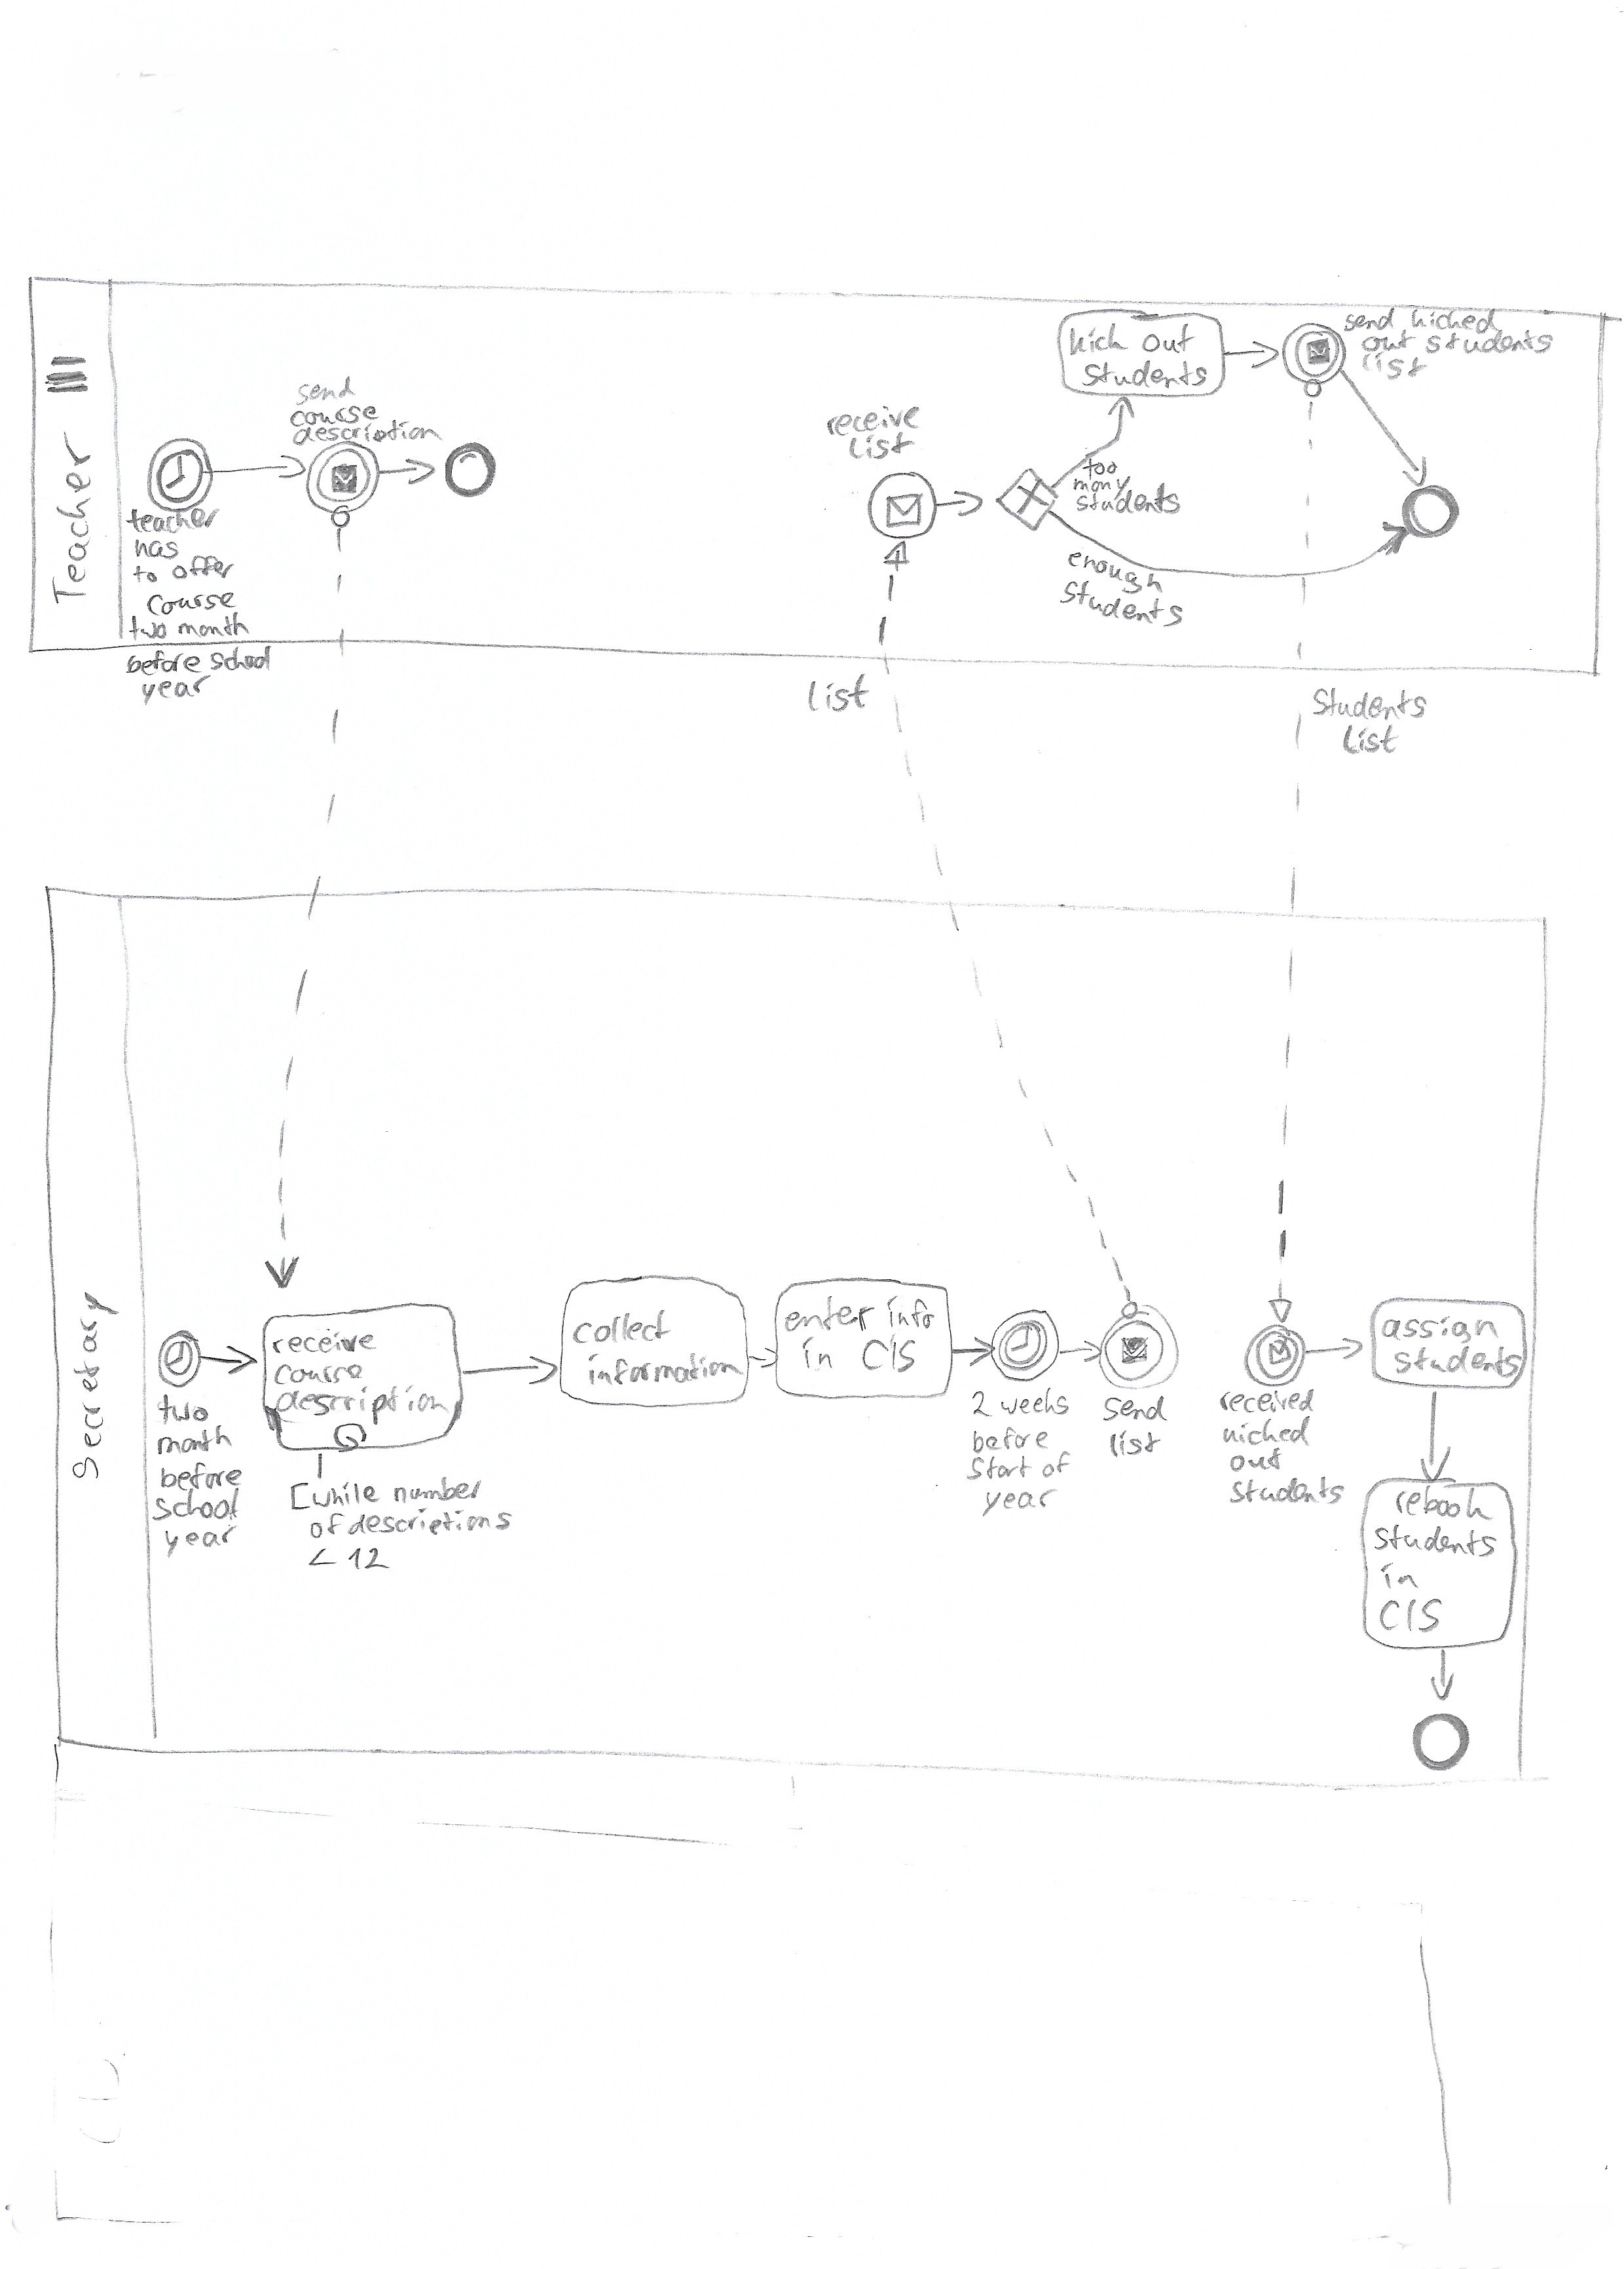12: (342, 1543, 392, 1573)
2: (967, 1385, 994, 1417)
<: (306, 1546, 336, 1571)
CIS: (1378, 1596, 1444, 1636), (860, 1334, 918, 1374)
Course: (143, 595, 236, 619)
Ill: (43, 352, 90, 396)
List: (1340, 722, 1401, 757)
Secretary: (71, 1291, 119, 1480)
Students: (1310, 685, 1430, 721), (1062, 577, 1193, 607), (1080, 360, 1208, 388)
Teacher: (49, 432, 94, 608)
[while: (285, 1479, 380, 1512)
assign: (1380, 1315, 1500, 1346)
before: (158, 1459, 244, 1492), (969, 1427, 1049, 1455), (125, 648, 204, 676)
collect: (570, 1315, 673, 1347)
course: (272, 1364, 365, 1387), (287, 413, 381, 432)
description: (271, 1383, 449, 1426), (291, 423, 442, 448)
descriptions: (350, 1508, 513, 1541)
enough: (1070, 547, 1175, 576)
enter: (783, 1295, 876, 1334)
has: (132, 537, 181, 560)
in: (1378, 1565, 1422, 1592), (801, 1337, 835, 1372)
info: (885, 1298, 935, 1330)
information: (585, 1353, 741, 1386)
kick: (1065, 325, 1127, 358)
kicked: (1410, 307, 1502, 330)
list: (806, 673, 872, 713), (845, 434, 915, 463), (1360, 350, 1431, 376), (1104, 1433, 1162, 1456)
many: (1071, 477, 1133, 495)
month: (153, 1425, 238, 1457), (176, 611, 252, 639)
nicked: (1223, 1418, 1312, 1448)
number: (393, 1475, 481, 1509)
of: (306, 1512, 347, 1543), (1039, 1450, 1071, 1481)
offer: (170, 553, 236, 582)
out: (1140, 322, 1192, 356), (1228, 1448, 1289, 1476), (1359, 328, 1414, 354)
rebook: (1391, 1488, 1493, 1528)
receive: (270, 1329, 378, 1357), (822, 409, 923, 440)
received: (1219, 1389, 1314, 1417)
school: (153, 1488, 244, 1523), (209, 645, 271, 673)
send: (1104, 1396, 1168, 1423), (1342, 307, 1398, 333), (293, 383, 354, 407)
start: (967, 1453, 1034, 1484)
students: (1392, 1344, 1524, 1378), (1373, 1524, 1498, 1560), (1228, 1476, 1348, 1507), (1423, 329, 1555, 356), (1075, 487, 1183, 518)
teacher: (128, 508, 221, 534)
to: (131, 564, 162, 584)
too: (1082, 457, 1120, 481)
two: (157, 1394, 210, 1425), (127, 615, 170, 642)
weeks: (995, 1385, 1077, 1419)
year: (976, 1487, 1056, 1516), (163, 1526, 234, 1555), (138, 681, 215, 707)
